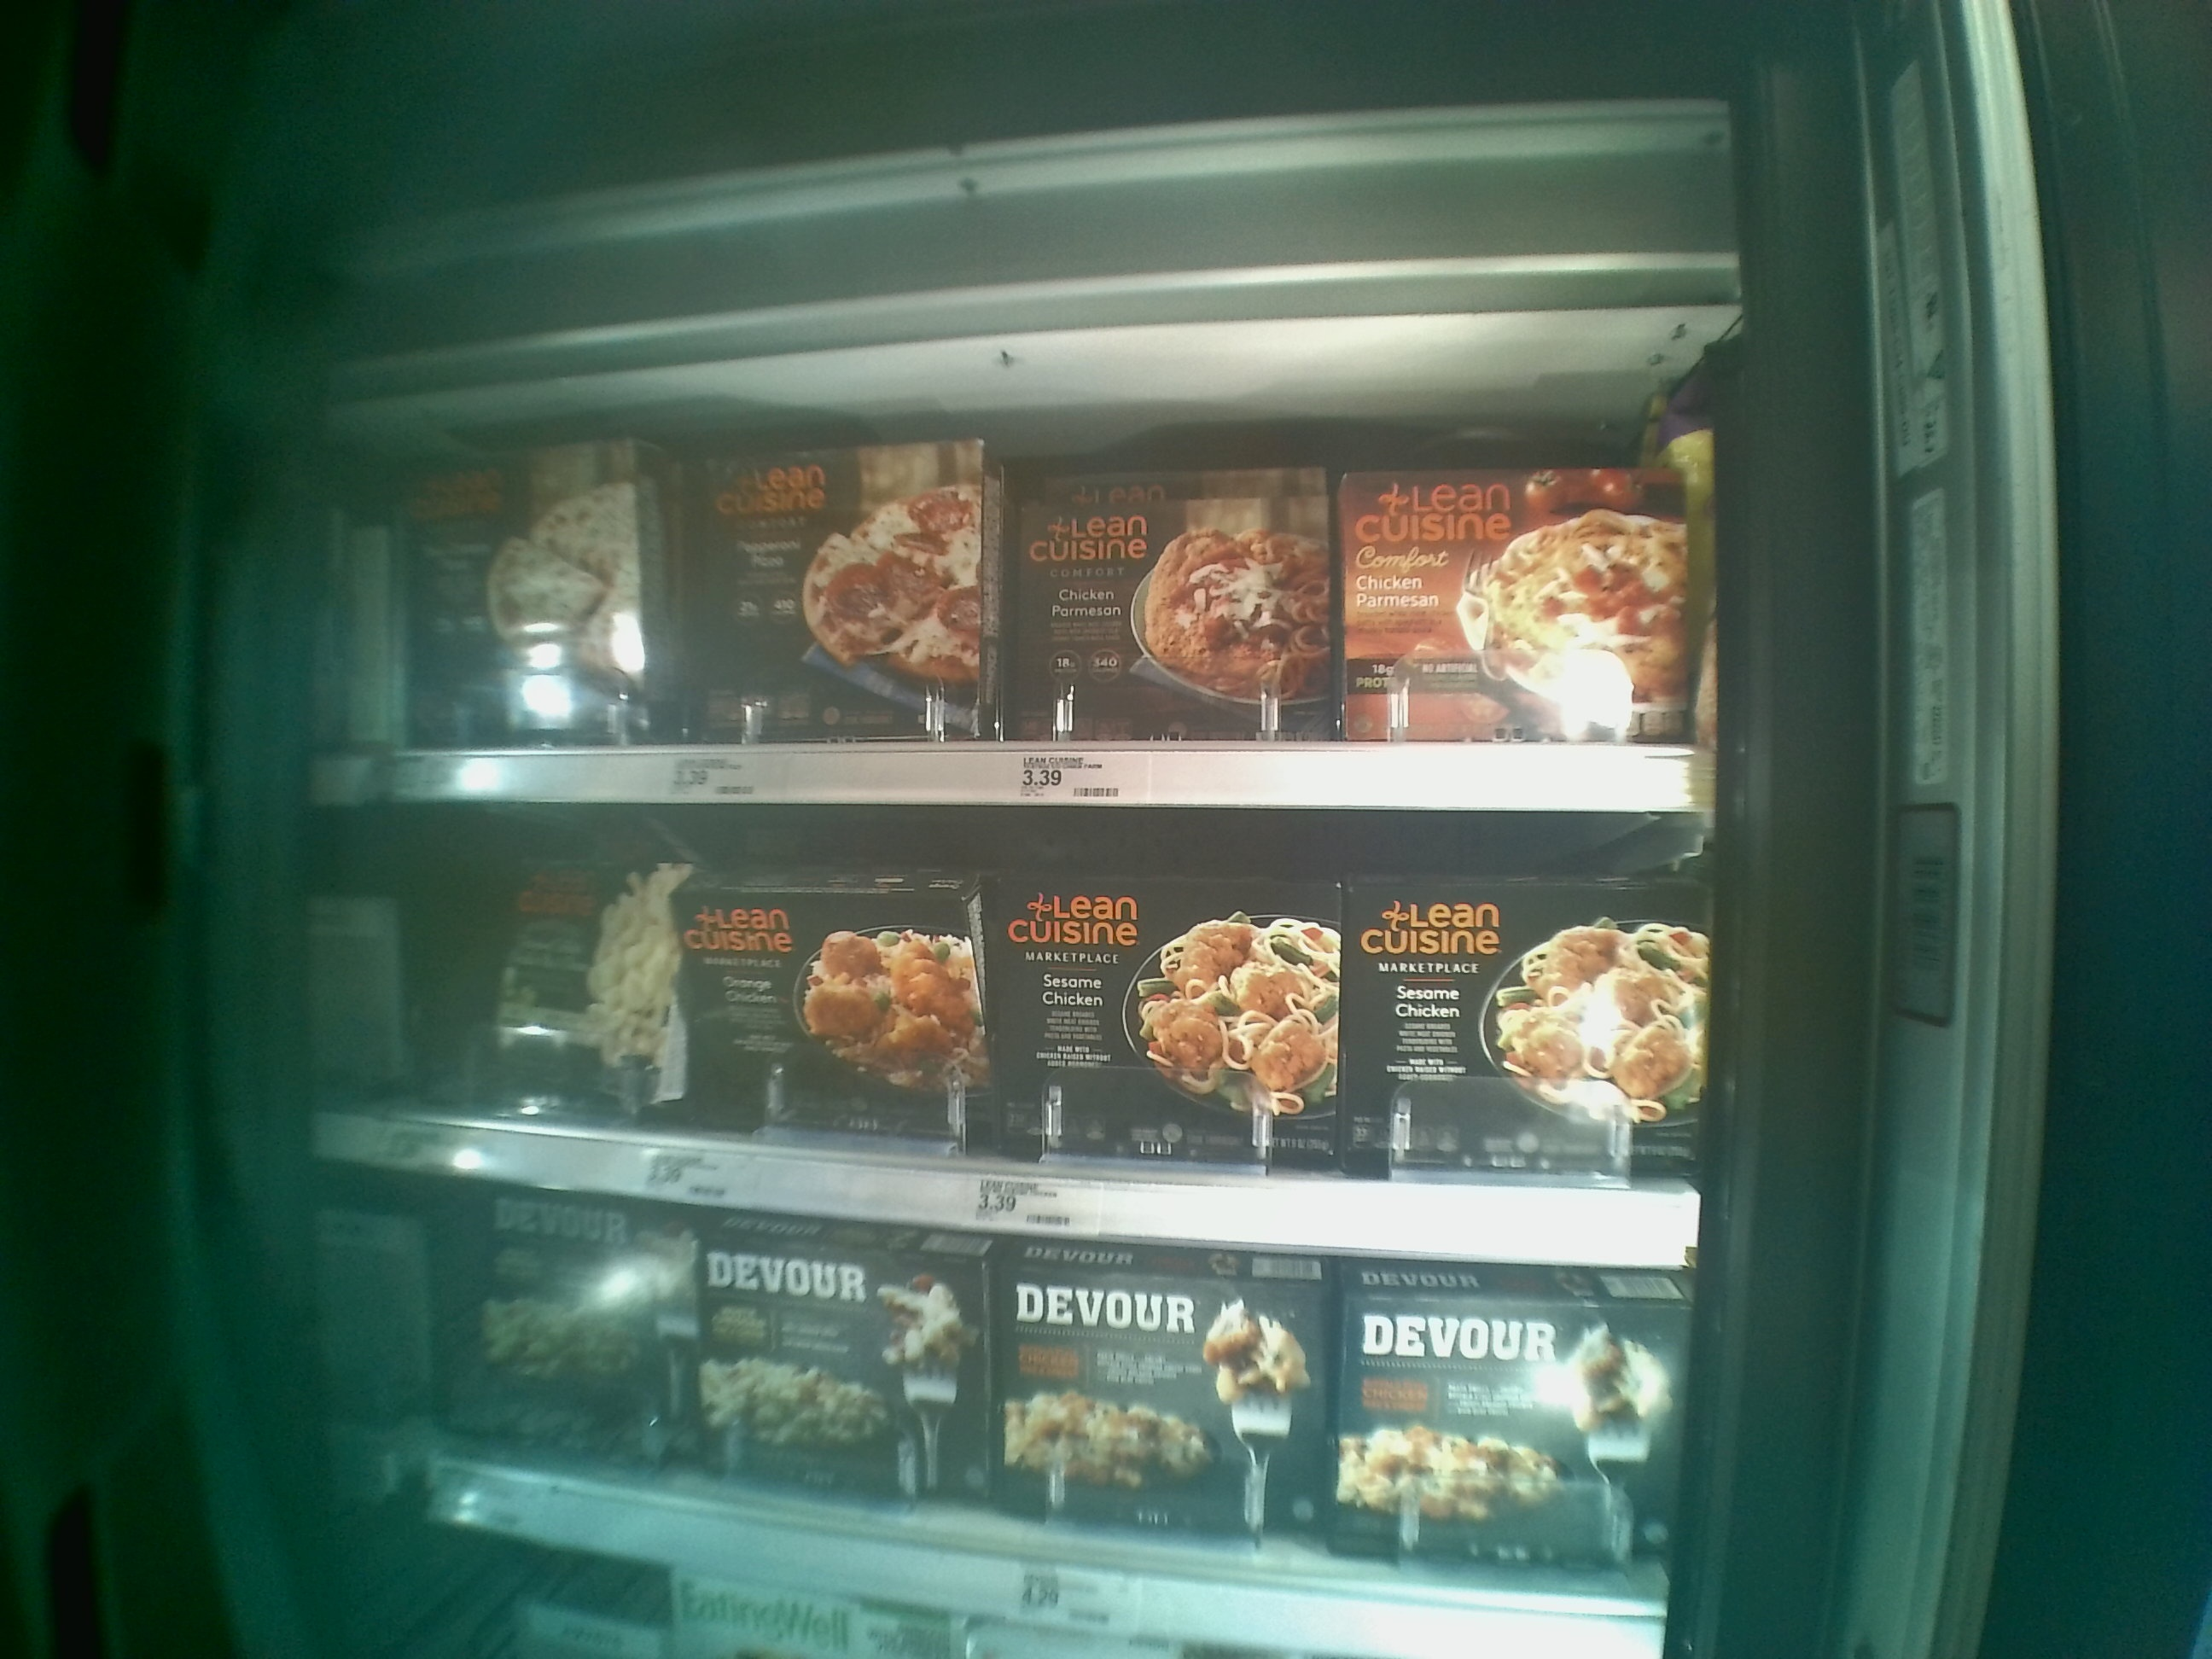shelf: (301, 807, 1709, 1281), (320, 385, 1703, 812)
